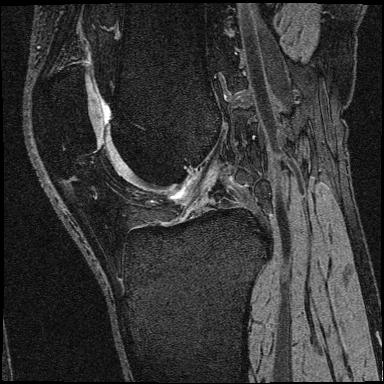SagKneeJointArea: (31, 64, 271, 283)
